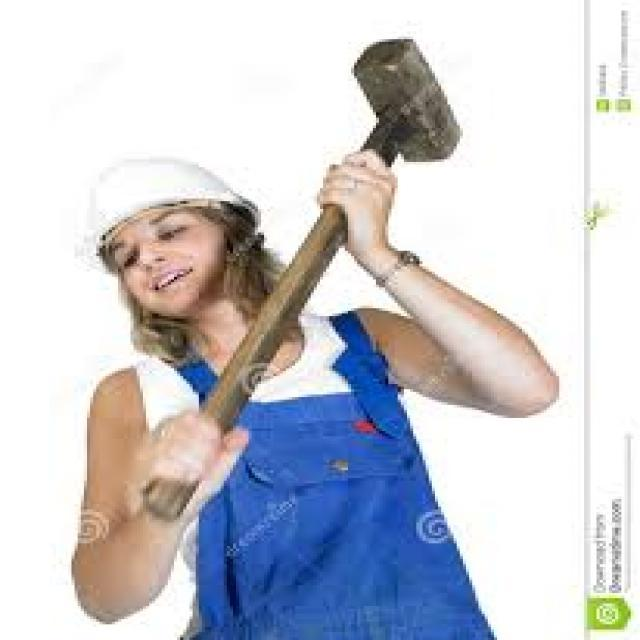hammer: (141, 29, 471, 526)
